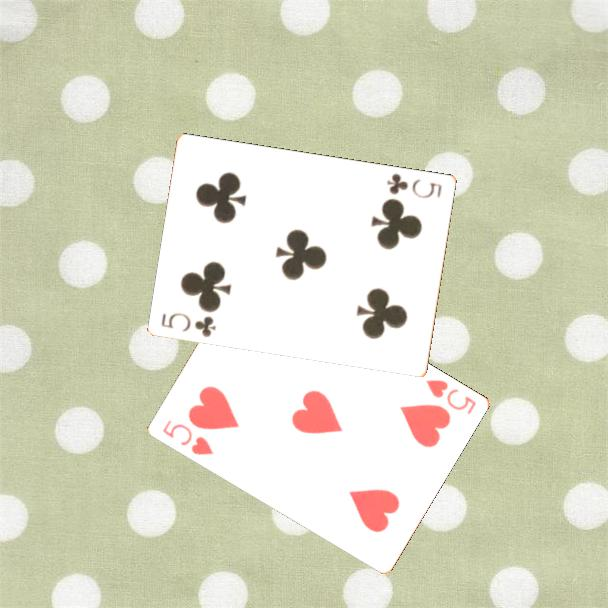c05: (384, 169, 445, 201), (158, 309, 219, 340)
h05: (159, 416, 216, 458), (422, 376, 479, 417)
